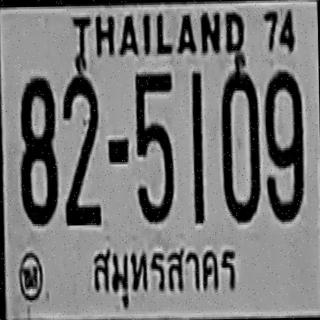N00: (219, 65, 260, 223)
N01: (190, 71, 204, 223)
N02: (61, 70, 100, 224)
N05: (134, 70, 174, 223)
N08: (18, 76, 57, 224)
N09: (264, 69, 304, 222)
P58: (88, 236, 248, 313)
